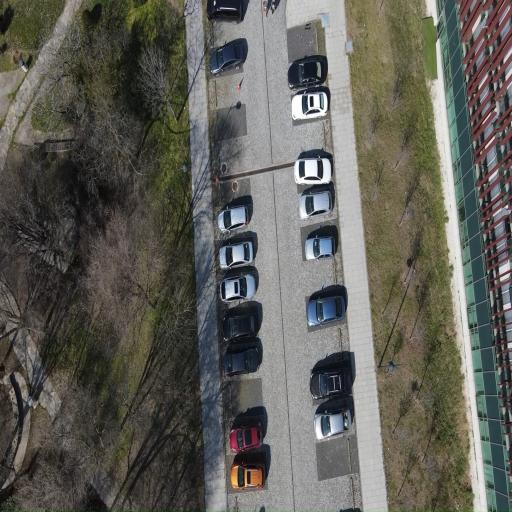car: (310, 366, 351, 399), (288, 55, 327, 88), (307, 296, 345, 326), (314, 409, 351, 439), (291, 91, 328, 120), (210, 42, 243, 74), (299, 191, 333, 220), (224, 348, 259, 376), (219, 242, 254, 270), (220, 275, 255, 302), (223, 313, 258, 340), (295, 158, 331, 184), (230, 423, 262, 452), (231, 463, 265, 489), (207, 0, 242, 24), (218, 206, 248, 232), (305, 237, 335, 260)
person: (271, 0, 276, 14), (263, 0, 267, 16)
